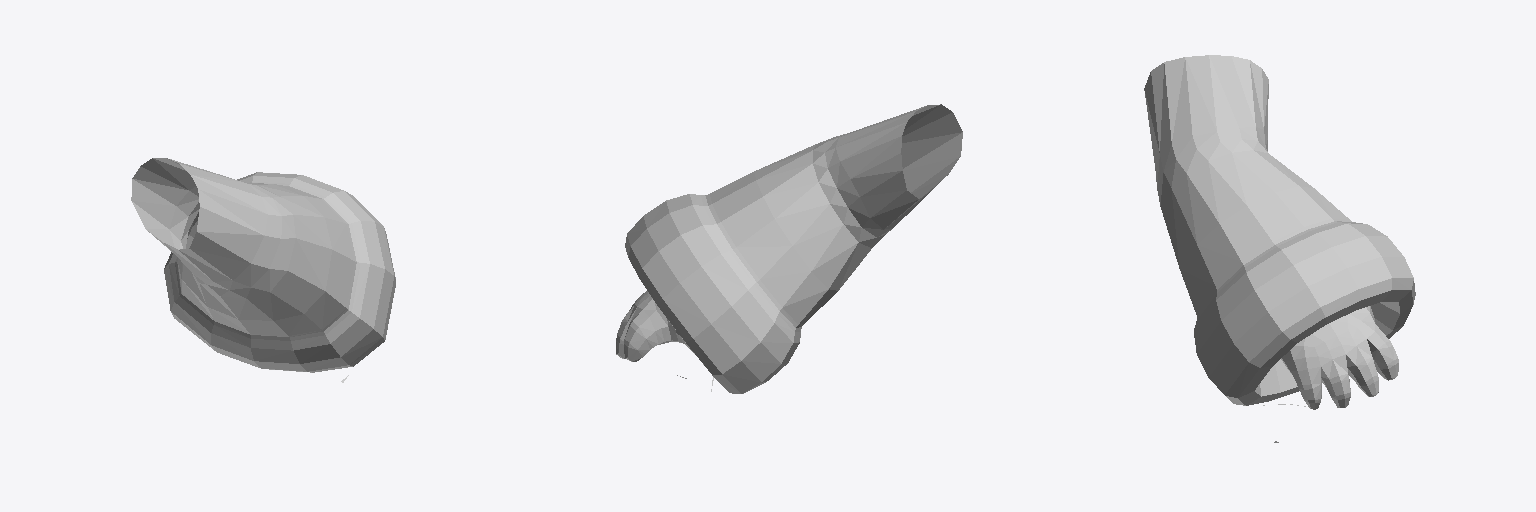
Rendered from brazo_der.obj.
The picture shows the model from 3 angles: view 1: azimuth 30°, elevation 25°; view 2: azimuth 150°, elevation 25°; view 3: azimuth 270°, elevation 25°; orthographic projection.
Visible parts, largest first — view 1: Body_jinsters_padoru.034; view 2: Body_jinsters_padoru.034; view 3: Body_jinsters_padoru.034.
Part boxes in pixels (bbox=[...]): Body_jinsters_padoru.034: bbox=[131, 158, 395, 382]; Body_jinsters_padoru.034: bbox=[616, 104, 962, 393]; Body_jinsters_padoru.034: bbox=[1144, 55, 1415, 442].
Bounding box in the file's own units: 0.1022 × 0.1082 × 0.0912.